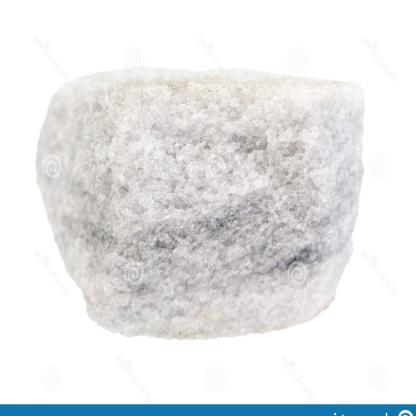Metamorphic_Marble: (29, 64, 376, 340)
